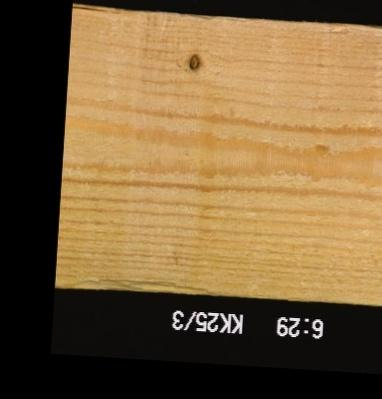dry_knot: (186, 51, 200, 72)
wave: (64, 276, 216, 292)
